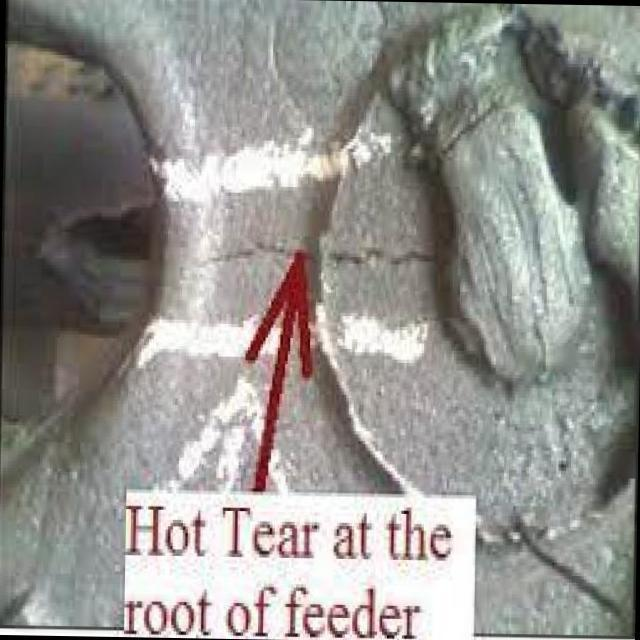defect: (200, 237, 452, 269)
